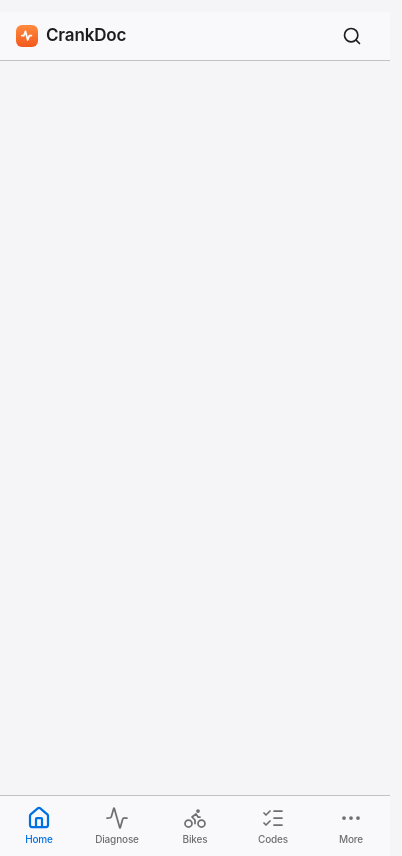
Scenario: Navigation › Escape closes the More menu
The width and height of the screenshot is (402, 856).
Click the button with aria-label "More navigation" at point(351, 826), box [312,796,390,855]
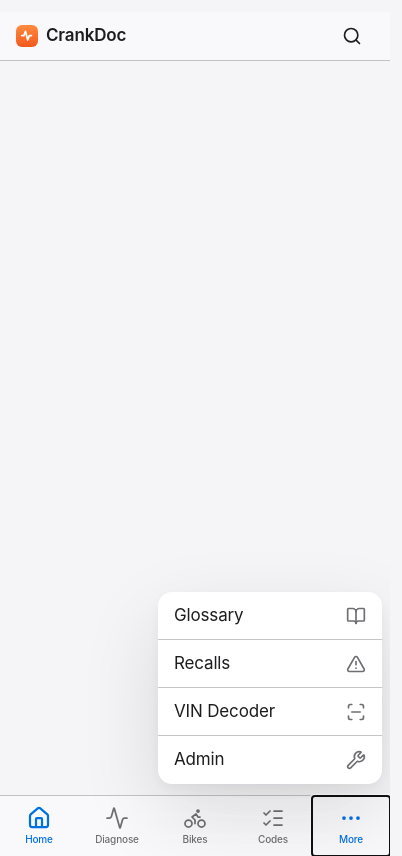
Press Escape
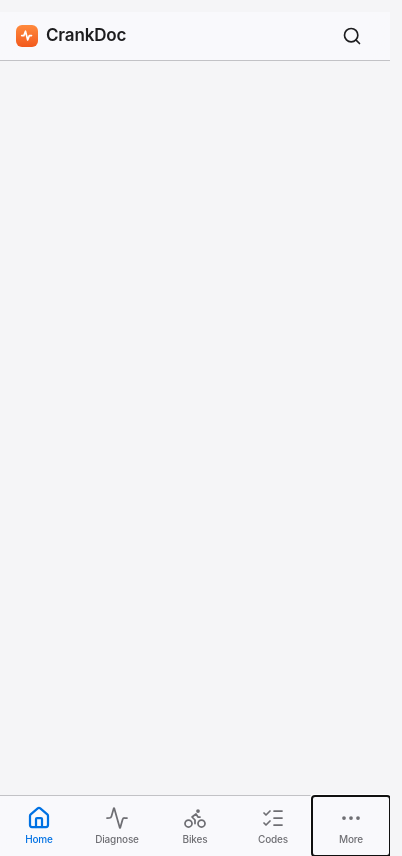
Expected: the button with aria-label "More navigation" is collapsed, [312,796,390,855]
